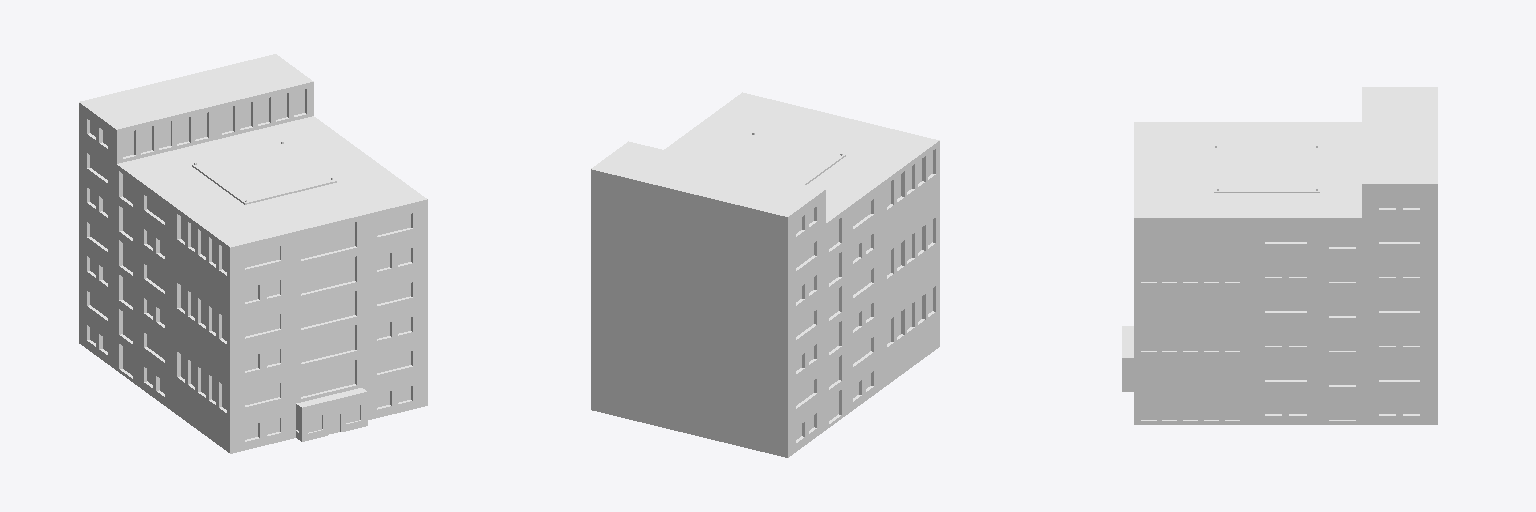
Rendered from Buildings_01-8.obj.
The picture shows the model from 3 angles: view 1: azimuth 30°, elevation 25°; view 2: azimuth 150°, elevation 25°; view 3: azimuth 270°, elevation 25°; orthographic projection.
Visible parts, largest first — view 1: object 1; view 2: object 1; view 3: object 1.
Boxes of the visible parts, x1=… form: object 1: x1=79, y1=54, x2=427, y2=453; object 1: x1=591, y1=92, x2=939, y2=457; object 1: x1=1122, y1=87, x2=1437, y2=424.
Bounding box in the file's own units: 12 × 14 × 16.6.